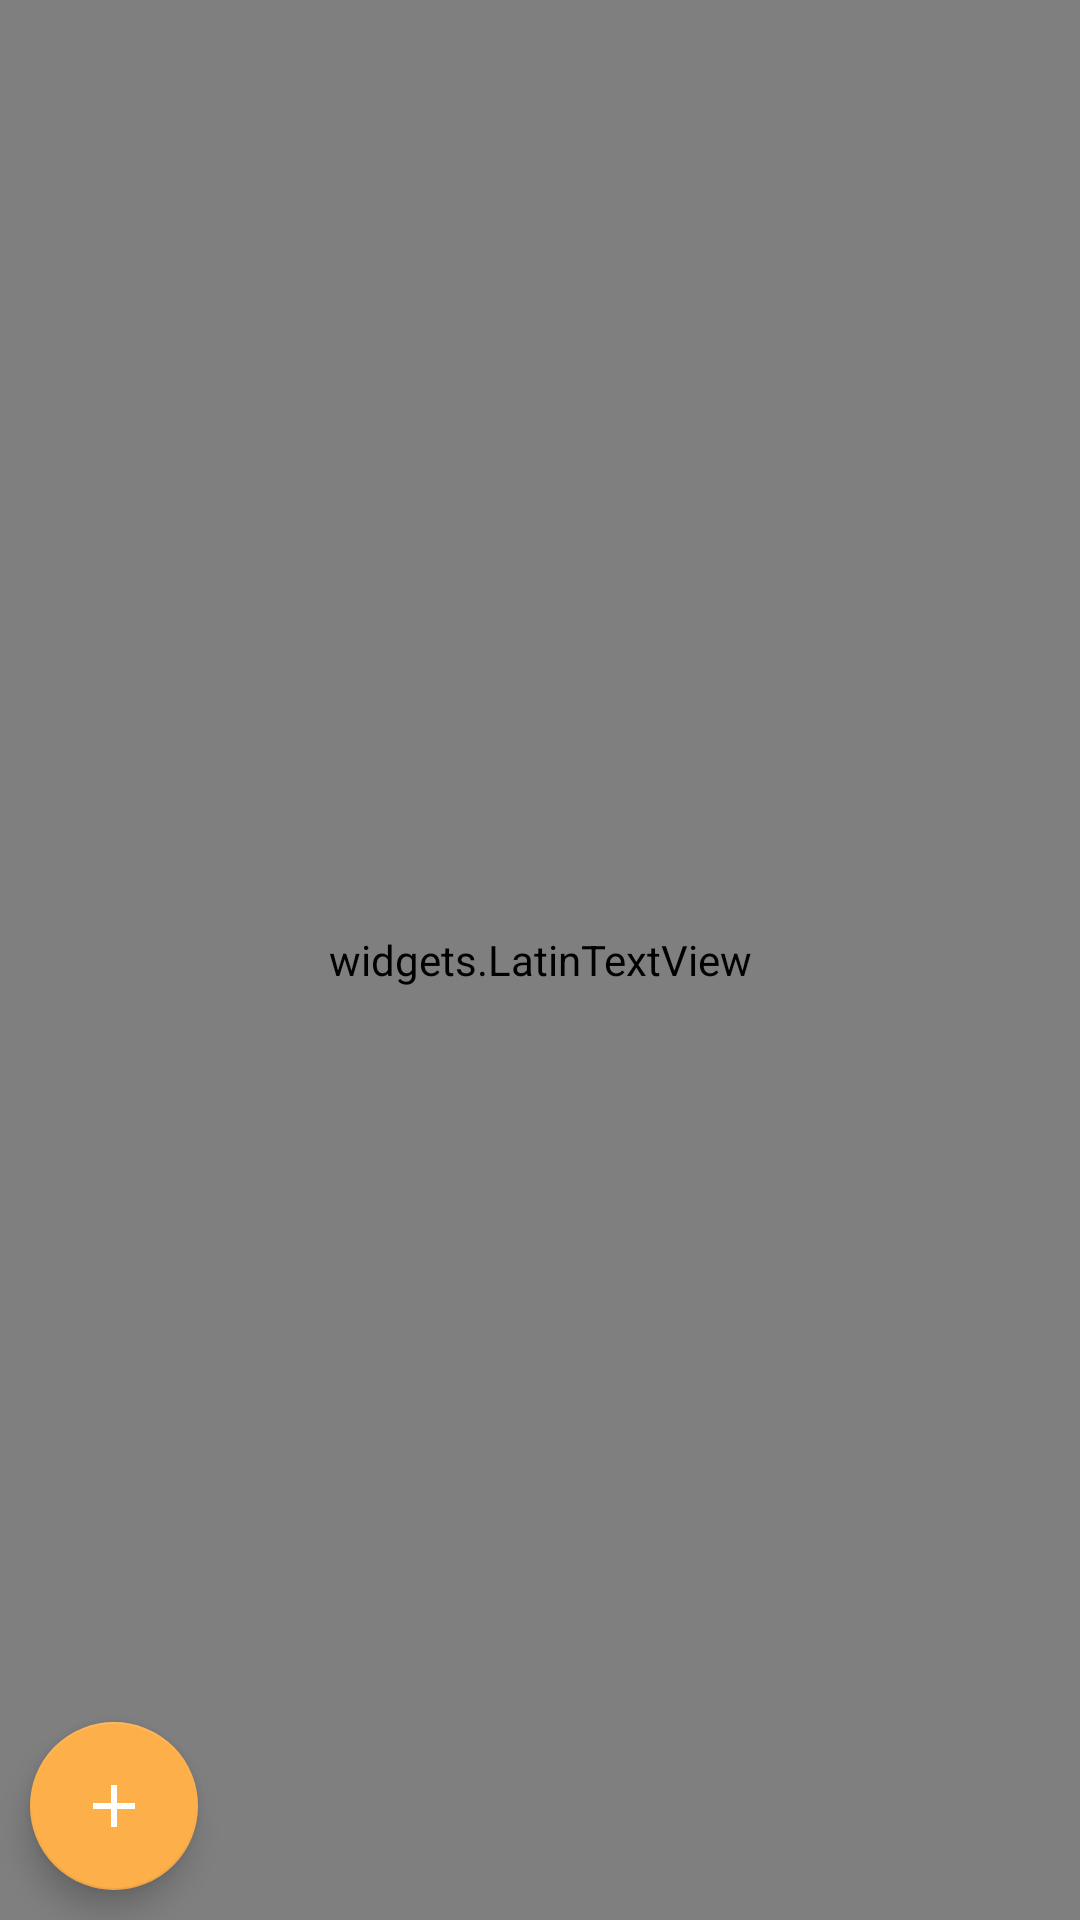

Screen size 1080 × 1920. Icon name, then its box in pixels as (x1,y1,x2,y2):
add: (30,1722,198,1890)
